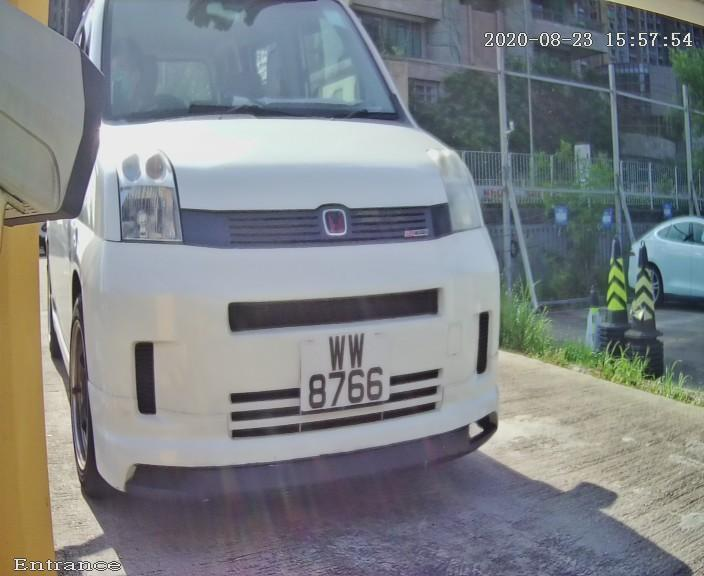Car: (10, 1, 557, 551)
License Plate: (287, 322, 406, 430)
